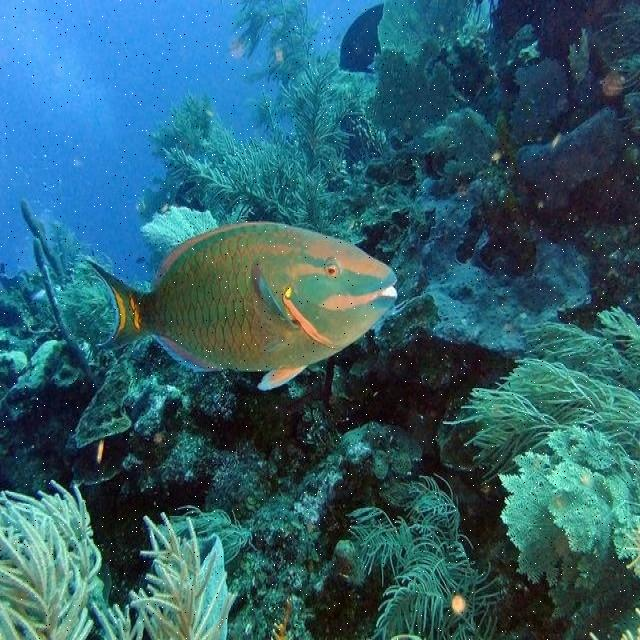fish: (84, 220, 399, 389)
reefs: (149, 1, 429, 244), (0, 477, 239, 639), (437, 305, 639, 489), (496, 427, 639, 639), (343, 472, 507, 639)
